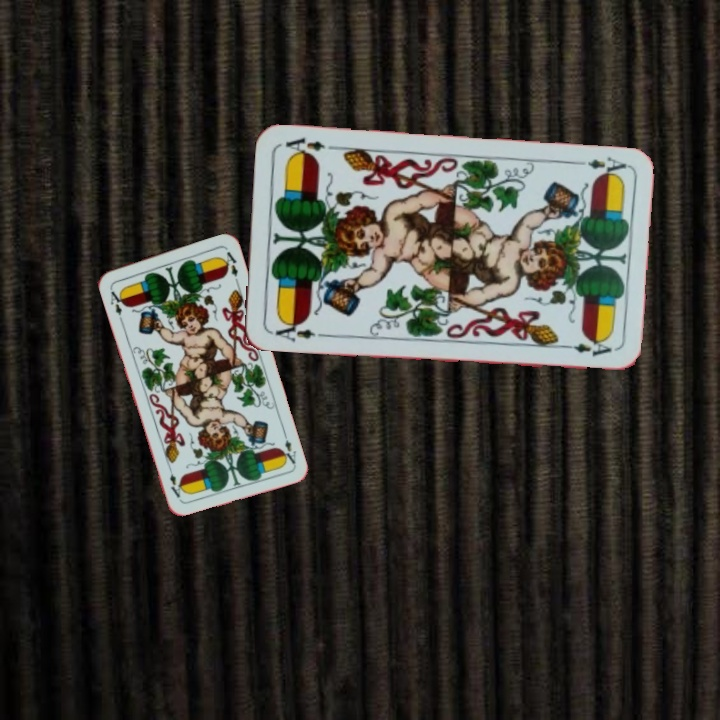EA: (570, 152, 629, 180), (271, 316, 326, 344), (277, 427, 299, 466), (106, 283, 128, 318)
